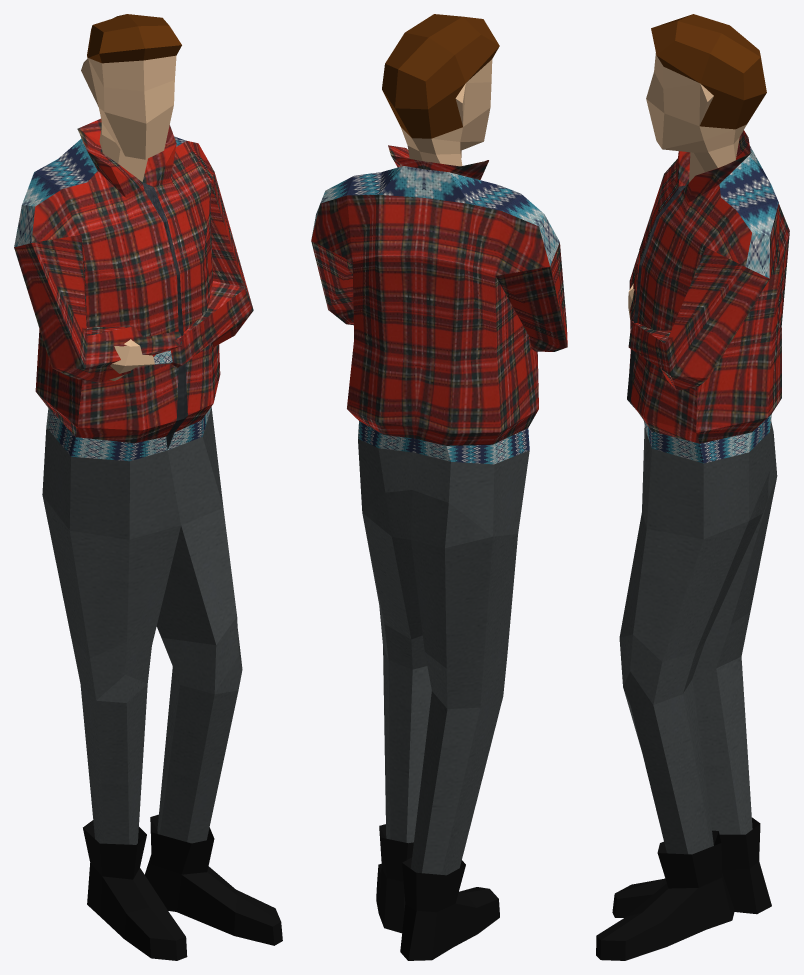
The model's file is AutumnManC.009.glb.
The picture shows the model from 3 angles, left to right: view 1: azimuth 30°, elevation 25°; view 2: azimuth 150°, elevation 25°; view 3: azimuth 270°, elevation 25°; orthographic projection. The views are drawn at different scales.
Parts seen in each view (by area): view 1: AutumnManC.009; view 2: AutumnManC.009; view 3: AutumnManC.009.
Part boxes in pixels (x1,y1,x2,y2): AutumnManC.009: [14, 14, 282, 960]; AutumnManC.009: [311, 14, 567, 960]; AutumnManC.009: [596, 14, 789, 960].
Size of the model in its own units: 0.4533 by 1.77 by 0.3491.
1 material, 1 textured.
